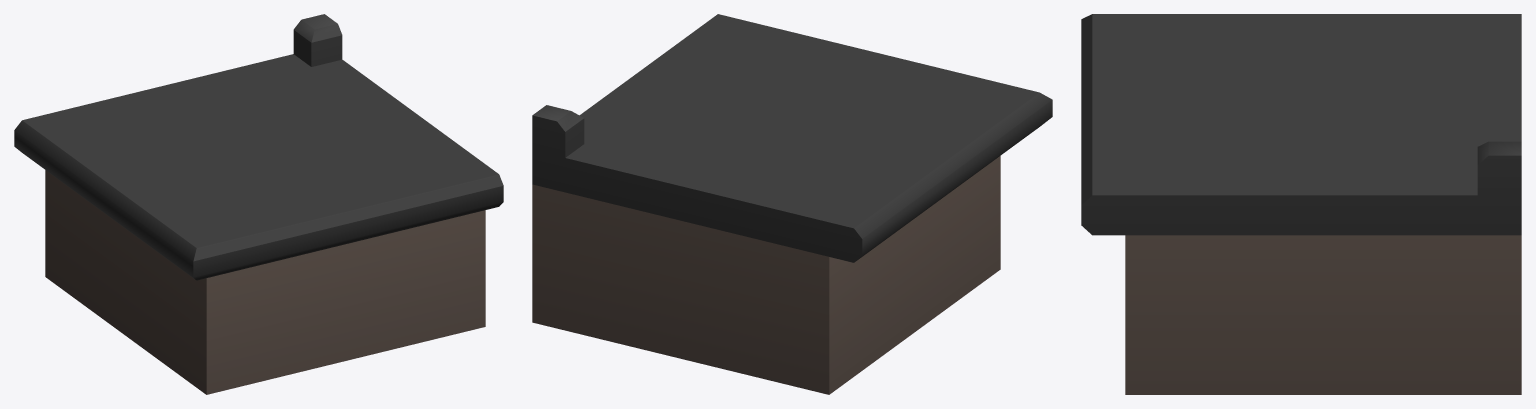
Rendered from kitchencounter_outercorner_backsplash_styleB.obj.
3 renders of one model, left to right at view 1: azimuth 30°, elevation 25°; view 2: azimuth 150°, elevation 25°; view 3: azimuth 270°, elevation 25°, orthographic. The views are drawn at different scales.
Visible parts, largest first — view 1: kitchencounter_outercorner_backsplash_styleB_Cube.019; view 2: kitchencounter_outercorner_backsplash_styleB_Cube.019; view 3: kitchencounter_outercorner_backsplash_styleB_Cube.019.
Boxes of the visible parts, left/top/right/bottom form: kitchencounter_outercorner_backsplash_styleB_Cube.019: left=14, top=14, right=503, bottom=394; kitchencounter_outercorner_backsplash_styleB_Cube.019: left=532, top=14, right=1052, bottom=394; kitchencounter_outercorner_backsplash_styleB_Cube.019: left=1081, top=14, right=1521, bottom=394.
Bounding box in the file's own units: 2 × 1.2 × 2.
1 material, 1 textured.
